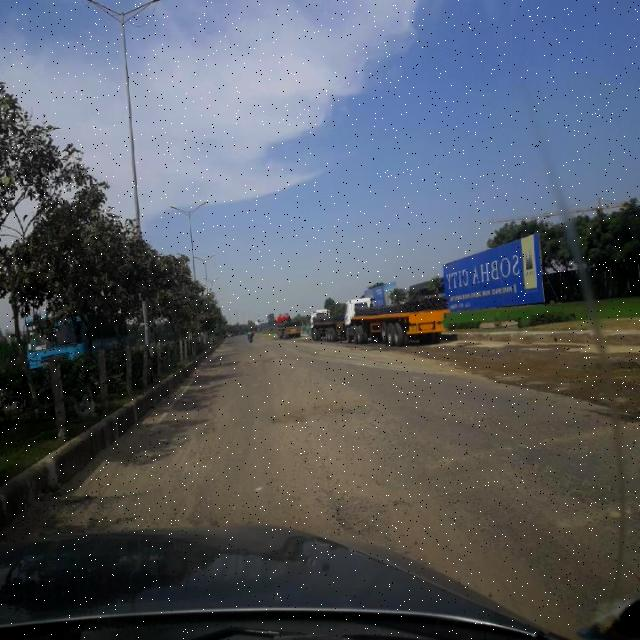D20: (394, 378, 633, 522)
D40: (46, 453, 550, 560), (265, 389, 387, 432), (244, 351, 304, 371)
